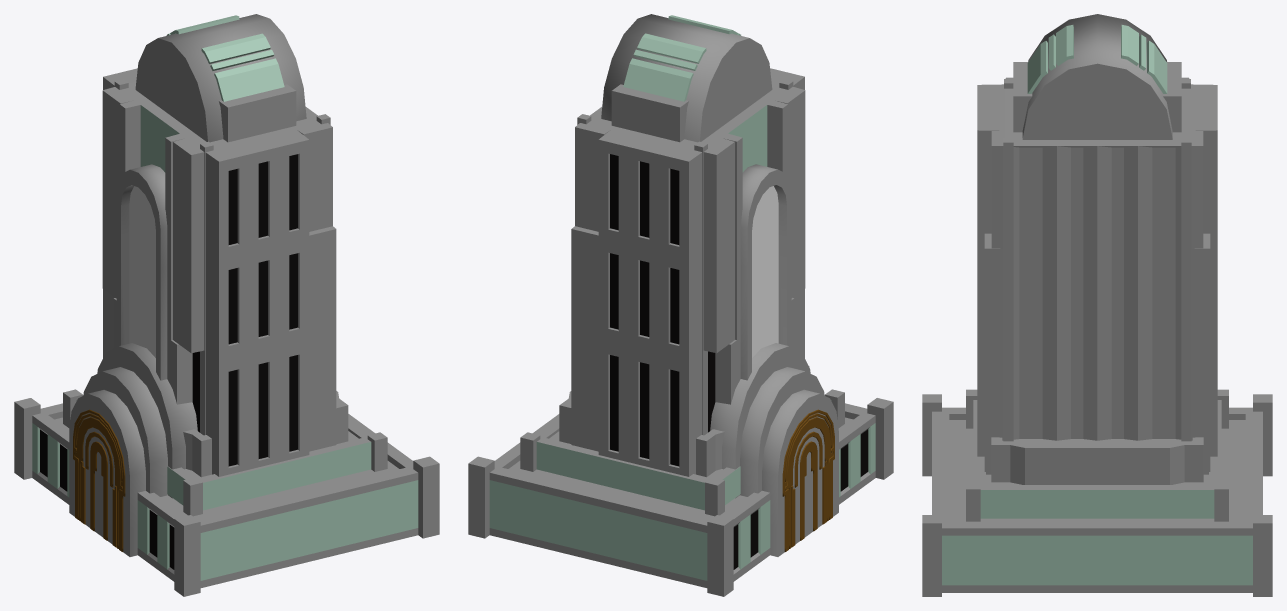
The model's file is Build01.fbx.
3 renders of one model, left to right at view 1: azimuth 30°, elevation 25°; view 2: azimuth 150°, elevation 25°; view 3: azimuth 270°, elevation 25°, orthographic. The views are drawn at different scales.
Visible parts, largest first — view 1: Cube_RLExtr.001, Cube, Door, Door_RLExtr, Door_RLExtr.001; view 2: Cube_RLExtr.001, Cube, Door, Door_RLExtr, Door_RLExtr.001; view 3: Cube, Cube_RLExtr.001, Door, Door_RLExtr.001.
Boxes of the visible parts, x1,y1,x2,y2 form: Cube_RLExtr.001: (102,68,336,476); Cube: (14,79,439,596); Door: (69,14,306,556); Door_RLExtr: (73,409,125,551); Door_RLExtr.001: (166,15,284,101); Cube_RLExtr.001: (571,68,805,476); Cube: (468,79,893,596); Door: (601,14,838,556); Door_RLExtr: (782,409,834,551); Door_RLExtr.001: (623,15,741,101); Cube: (922,62,1272,596); Cube_RLExtr.001: (977,77,1217,474); Door: (1022,14,1172,139); Door_RLExtr.001: (1027,25,1167,93).
Size of the model in its own units: 858 by 982 by 1518.
